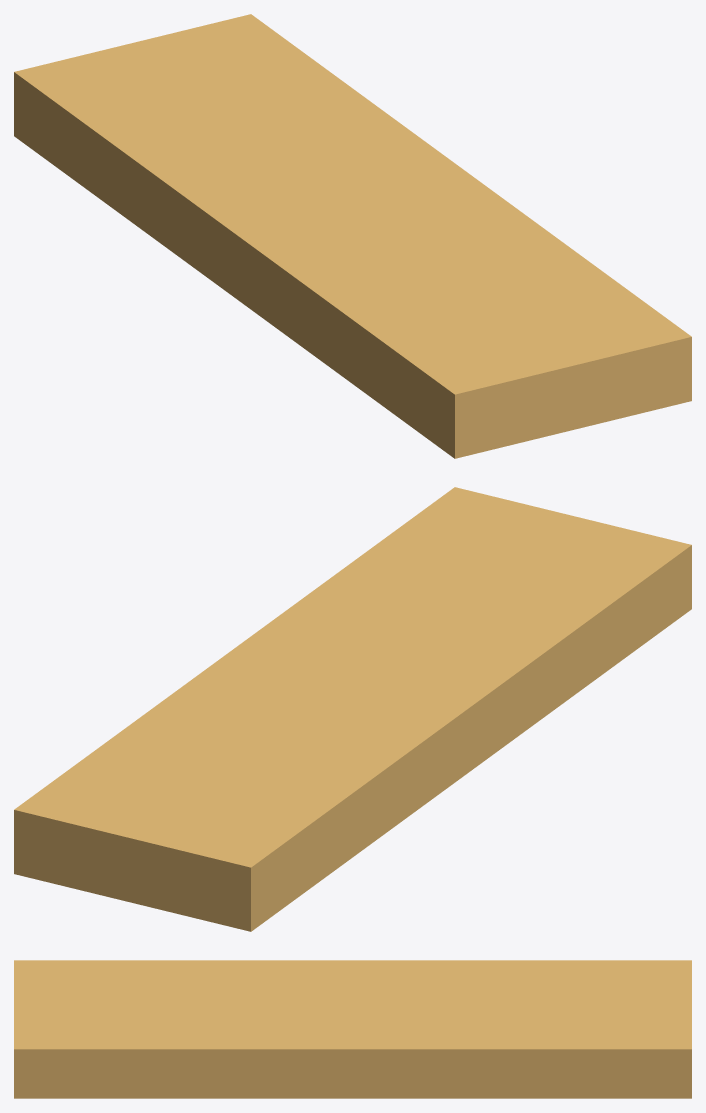
The model's file is TempleEntryDeformableSand.fbx.
The picture shows the model from 3 angles, top to bottom: view 1: azimuth 30°, elevation 25°; view 2: azimuth 150°, elevation 25°; view 3: azimuth 270°, elevation 25°; orthographic projection. The views are drawn at different scales.
Visible parts, largest first — view 1: TempleEntrySandRoom; view 2: TempleEntrySandRoom; view 3: TempleEntrySandRoom.
Part boxes in pixels (x1,y1,x2,y2): TempleEntrySandRoom: [14, 14, 691, 458]; TempleEntrySandRoom: [14, 487, 691, 931]; TempleEntrySandRoom: [14, 960, 691, 1098].
Bounding box in the file's own units: 144 × 37.19 × 462.
